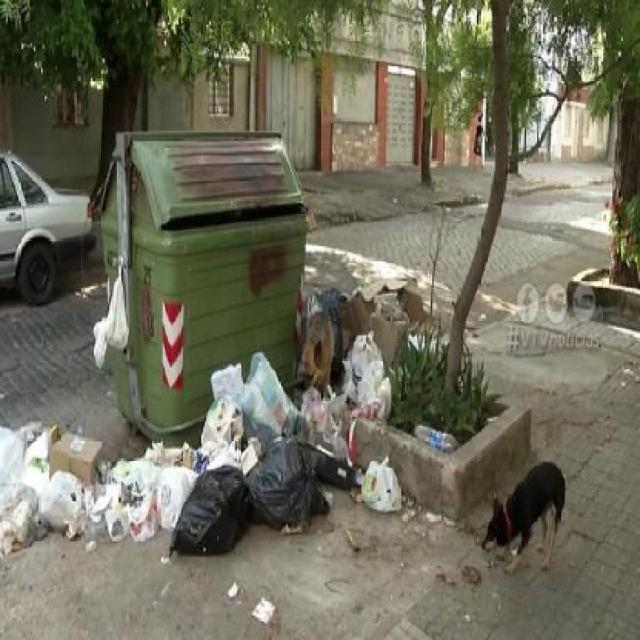garbage: (0, 423, 228, 554), (205, 363, 335, 539), (306, 288, 397, 428), (339, 438, 403, 520), (89, 268, 133, 370), (379, 277, 428, 330), (411, 420, 458, 450)
